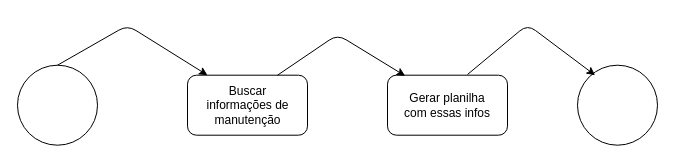
This 675x163 diagram has some shape labels left out. The shapes that lost their labels are listed below. From the top down, each one's centre as x and y in pixels, then its label:
At [57,104]: "Acessar SMS".
At [617,104]: "Enviar planilha p/ Email".
